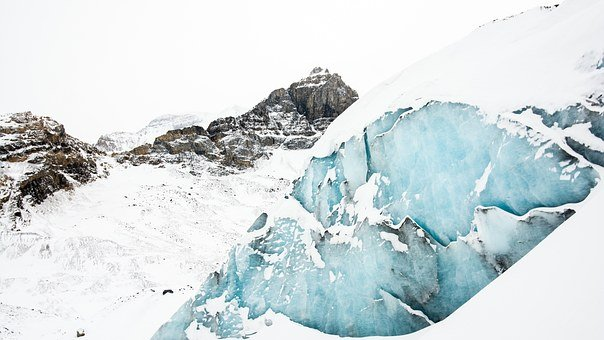mountain: (21, 23, 596, 335)
